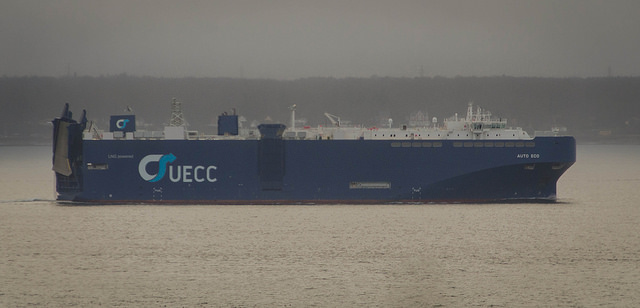PCC: (44, 96, 585, 202)
